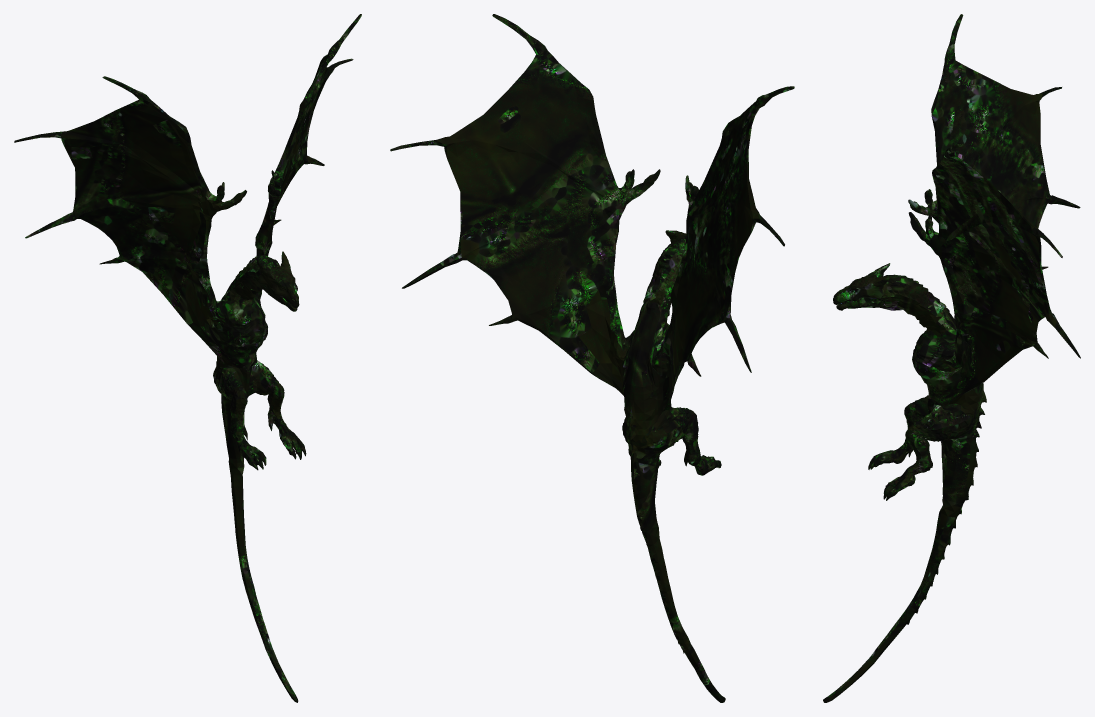
File: frame_0020_uv.obj
3 views of the same model, side by side, from view 1: azimuth 30°, elevation 25°; view 2: azimuth 150°, elevation 25°; view 3: azimuth 270°, elevation 25° (orthographic). The views are drawn at different scales.
Parts seen in each view (by area): view 1: pMesh1; view 2: pMesh1; view 3: pMesh1.
Boxes of the visible parts, x1=… form: pMesh1: x1=14, y1=14, x2=361, y2=702; pMesh1: x1=390, y1=14, x2=794, y2=702; pMesh1: x1=823, y1=14, x2=1080, y2=702.
Bounding box in the file's own units: 9.08 × 15.56 × 5.82.
